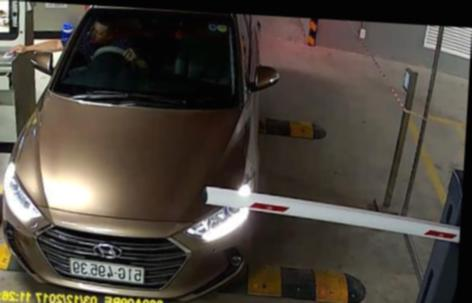License_Plate: (70, 260, 147, 282)
